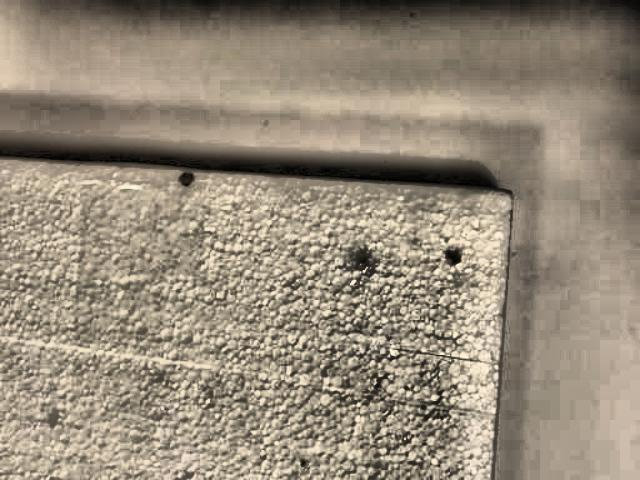Plastic: (0, 118, 521, 480)
